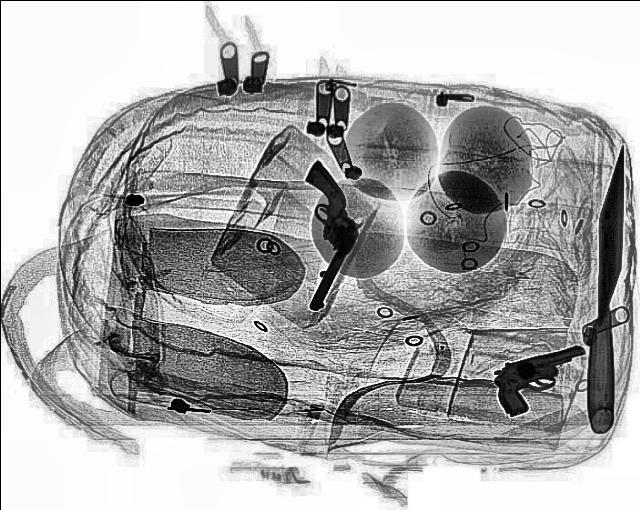Gun: (260, 159, 384, 311), (484, 342, 606, 416)
Knife: (586, 145, 628, 431)
